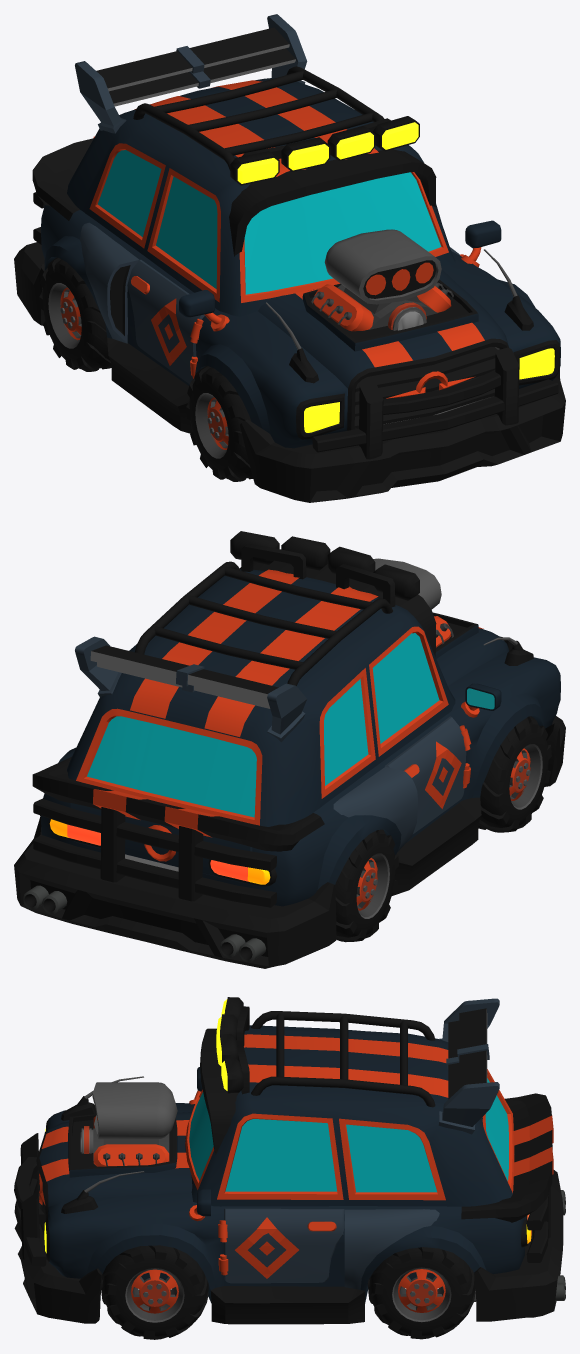
Rendered from SVehicle15.fbx.
3 renders of one model, top to bottom at view 1: azimuth 30°, elevation 25°; view 2: azimuth 150°, elevation 25°; view 3: azimuth 270°, elevation 25°, orthographic. The views are drawn at different scales.
Parts seen in each view (by area): view 1: SVehicle15, SV15_Wheel_BR, SV15_Wheel_FR; view 2: SVehicle15, SV15_Wheel_FR, SV15_Wheel_BR; view 3: SVehicle15, SV15_Wheel_FL, SV15_Wheel_BL.
Boxes of the visible parts, x1,y1,x2,y2 form: SVehicle15: [14, 14, 565, 502]; SV15_Wheel_BR: [39, 257, 111, 371]; SV15_Wheel_FR: [186, 366, 253, 481]; SVehicle15: [14, 531, 565, 968]; SV15_Wheel_FR: [478, 716, 551, 832]; SV15_Wheel_BR: [335, 829, 398, 942]; SVehicle15: [14, 997, 565, 1324]; SV15_Wheel_FL: [101, 1245, 208, 1339]; SV15_Wheel_BL: [367, 1247, 475, 1339].
Size of the model in its own units: 269 by 224 by 454.
Materials: 1 (1 with a texture image).
